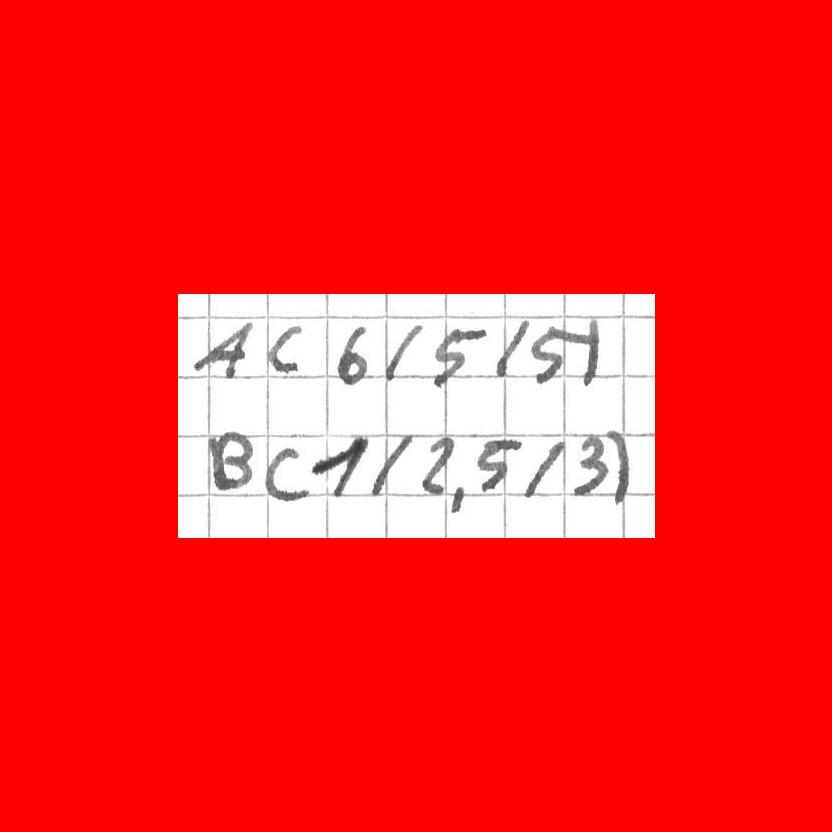Char: (426, 320, 484, 389), (195, 319, 255, 377), (314, 436, 368, 498), (532, 324, 589, 382), (208, 432, 256, 493), (368, 435, 414, 497), (473, 437, 520, 494), (262, 446, 309, 502), (334, 322, 372, 388), (572, 434, 609, 501), (418, 433, 455, 499), (524, 440, 565, 497), (383, 322, 423, 379), (495, 317, 531, 380), (264, 322, 304, 377), (607, 426, 630, 508), (580, 316, 605, 388), (446, 485, 466, 515)
